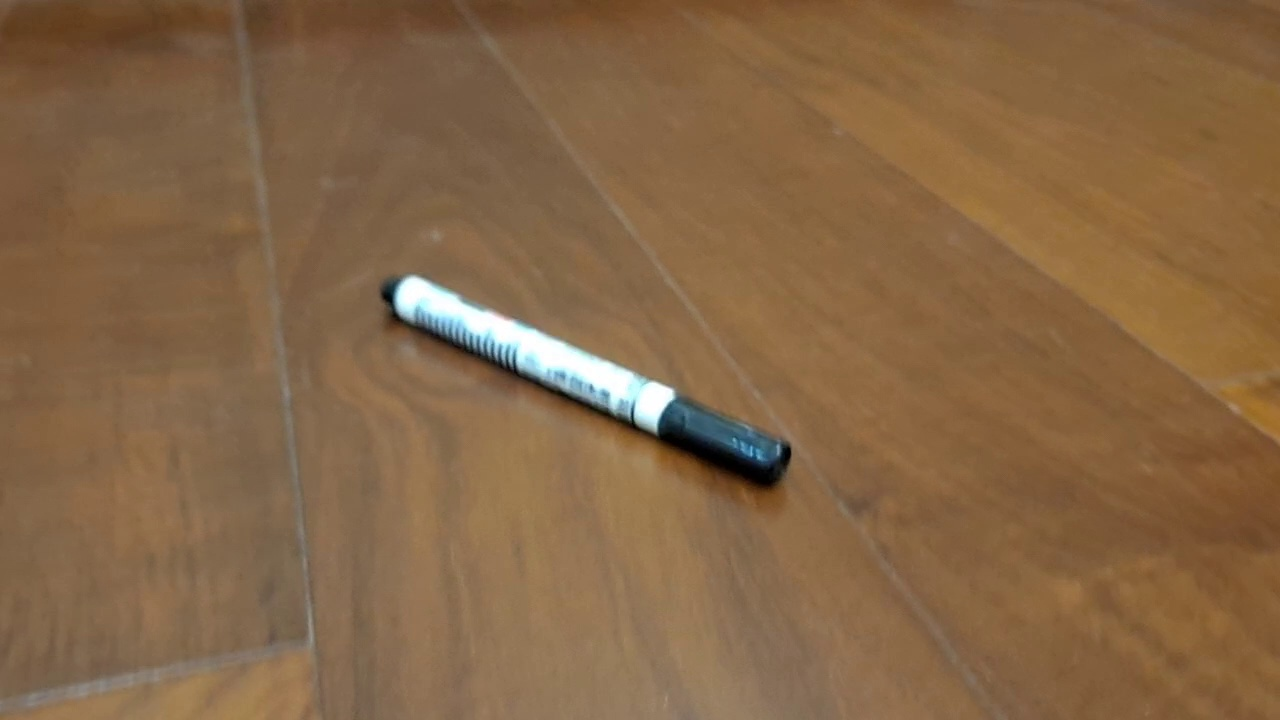pen: (379, 272, 793, 488)
